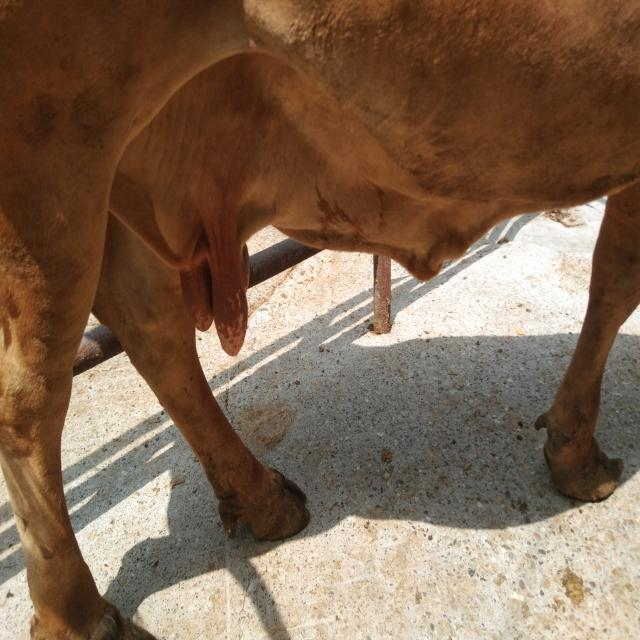Hoof: (534, 409, 624, 503), (217, 465, 310, 542)
